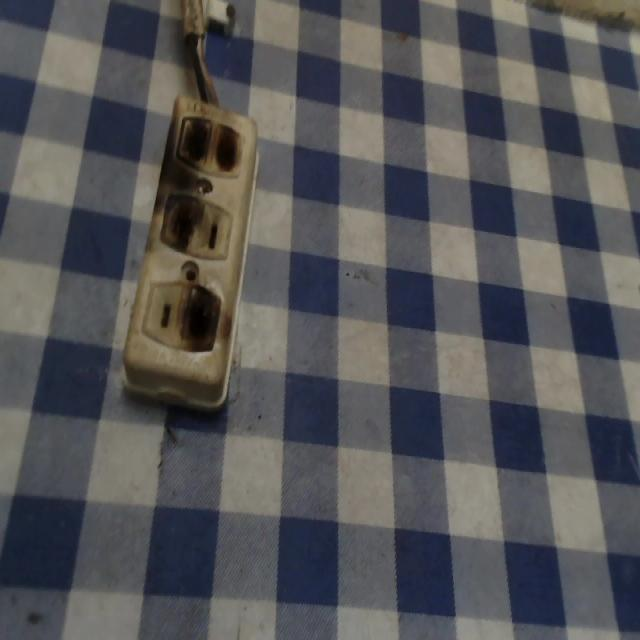-: (172, 110, 243, 174), (179, 281, 222, 351), (154, 190, 201, 250)
